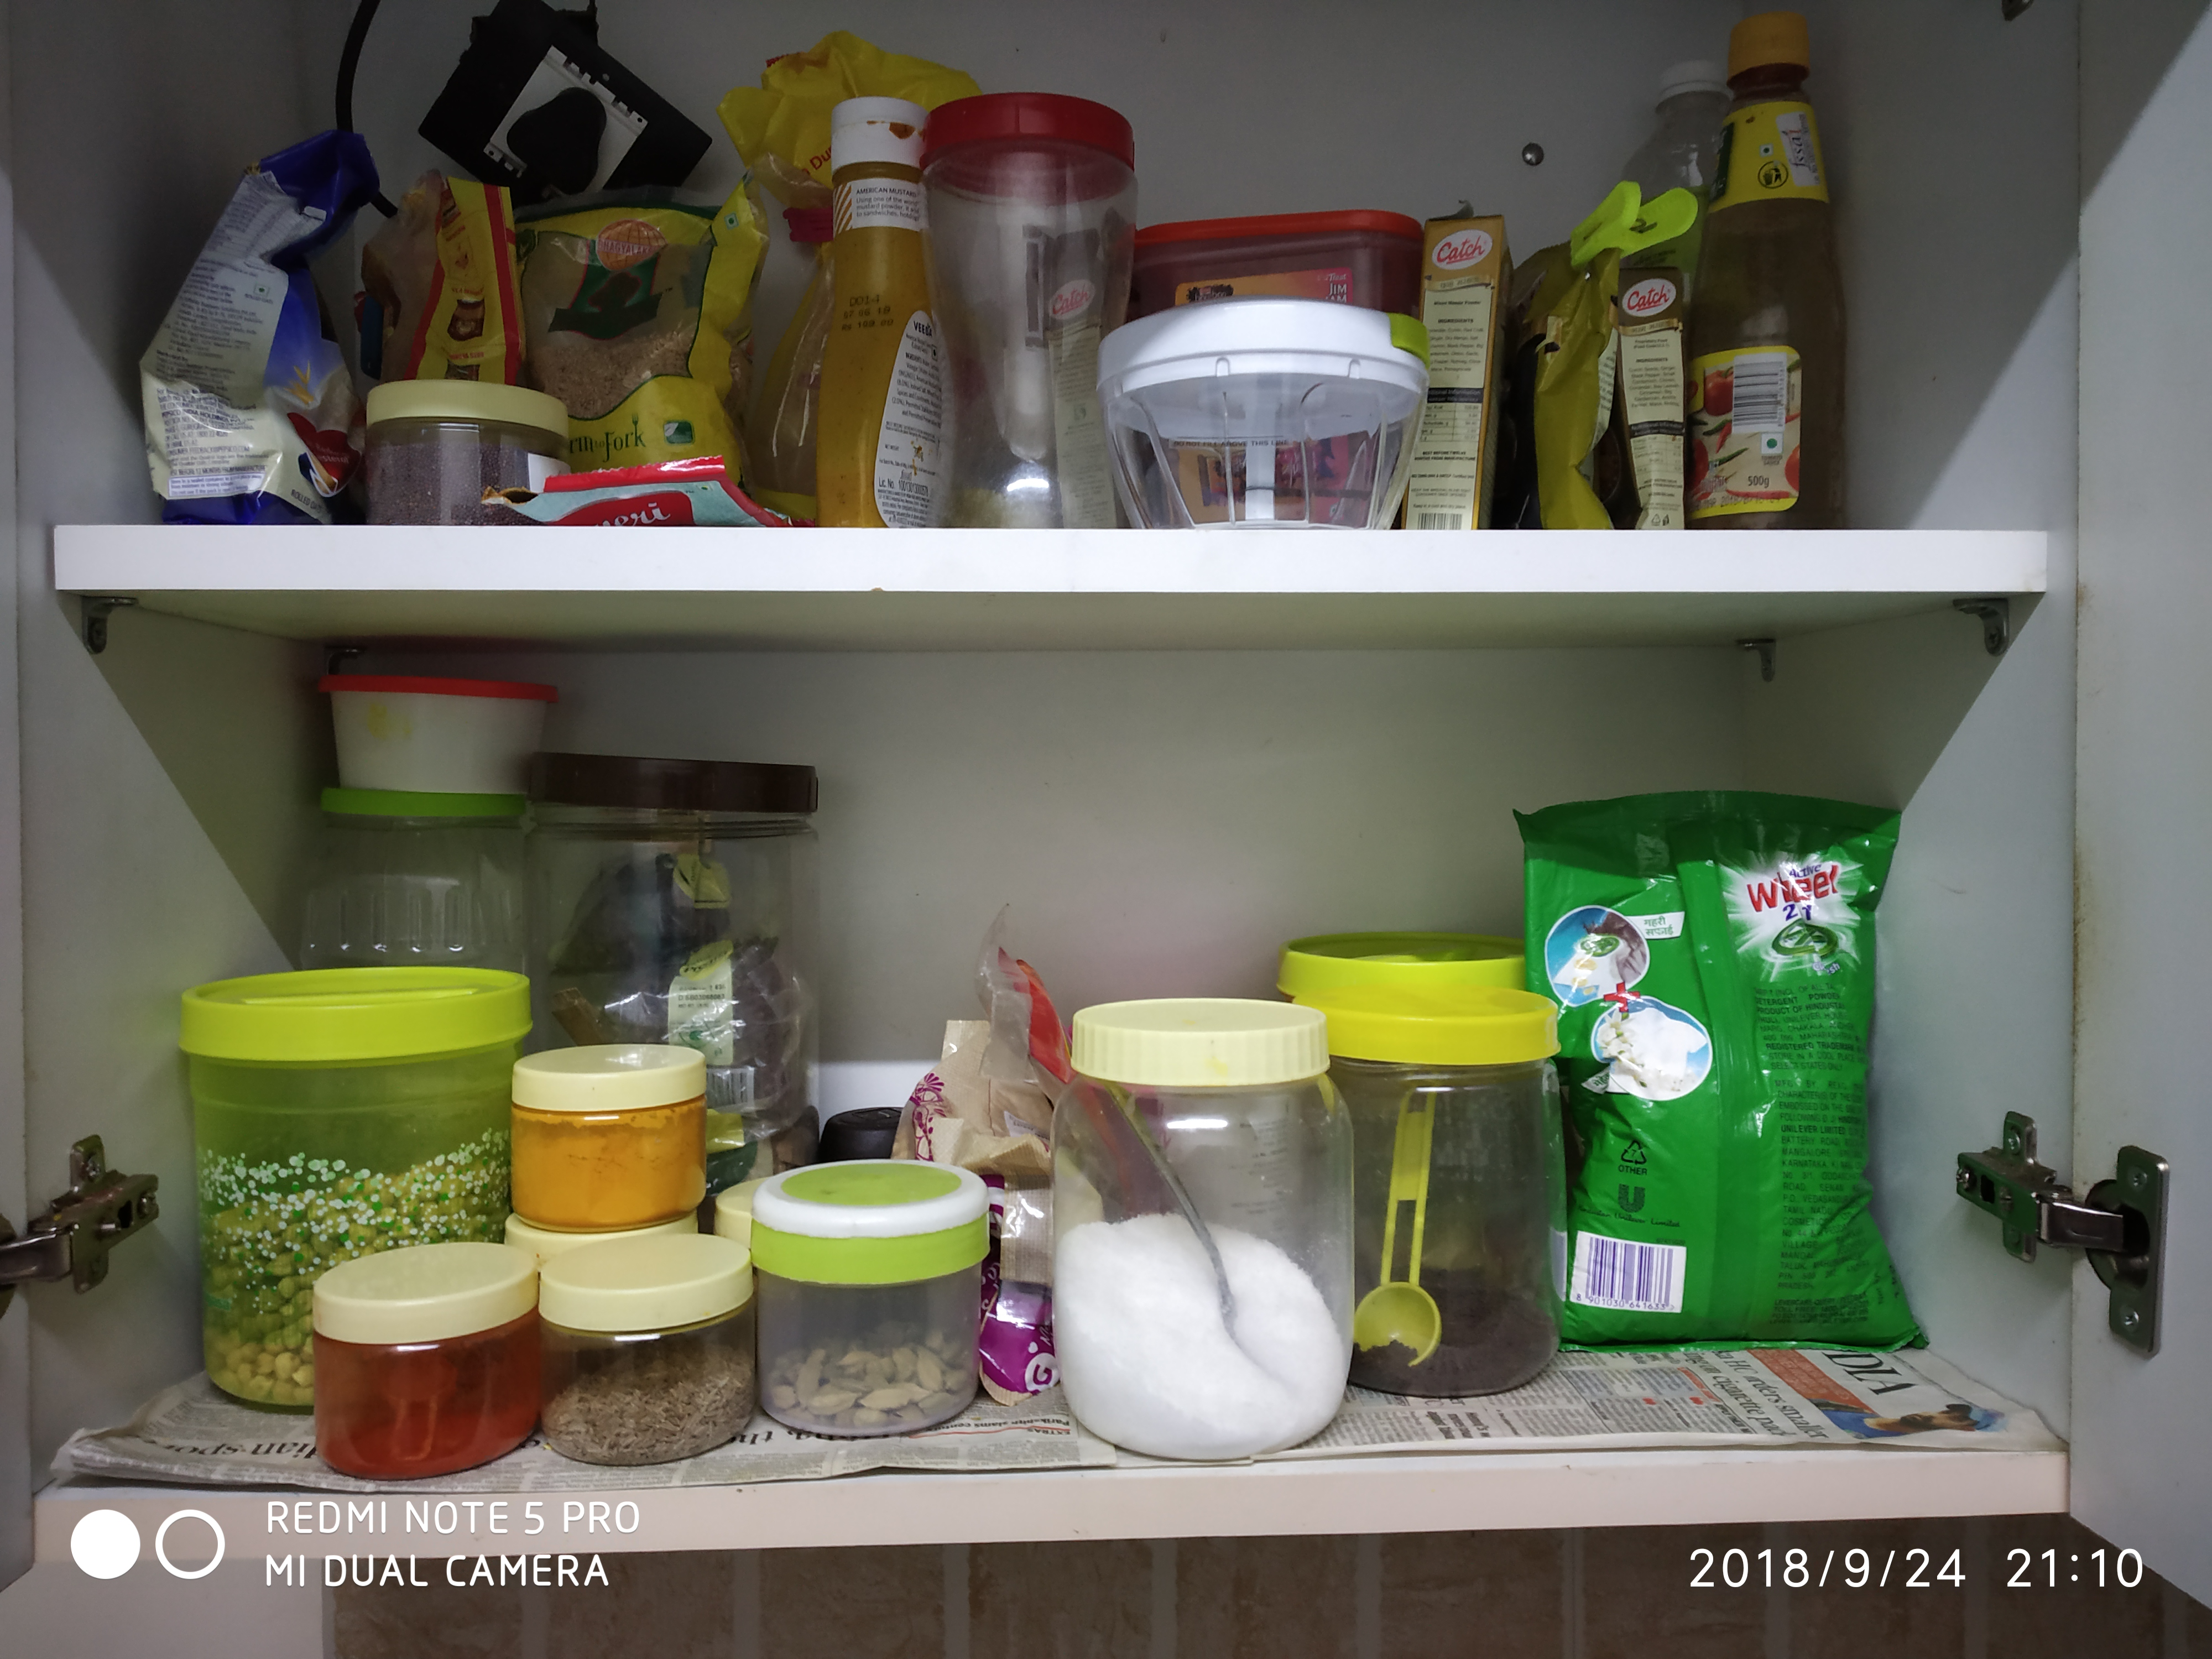detergent: (1557, 781, 1949, 1357)
